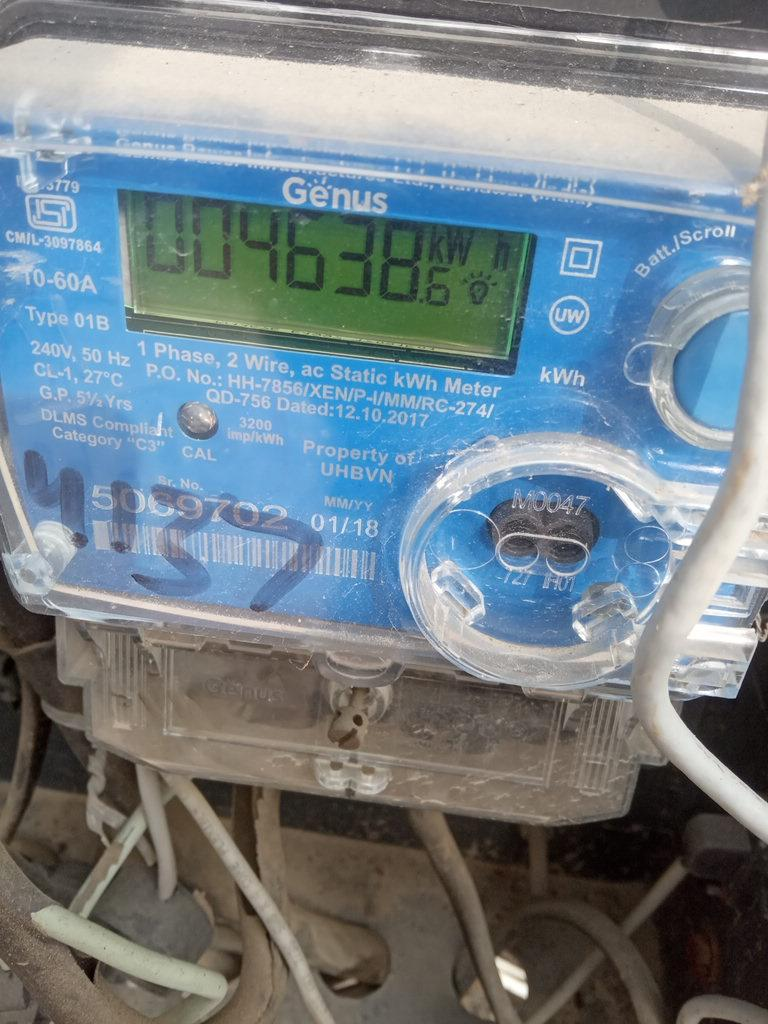.: (427, 223, 510, 276)
0: (416, 295, 425, 306)
1: (140, 187, 189, 281), (191, 197, 236, 285)
4: (330, 214, 377, 296)
5: (236, 205, 285, 294)
7: (280, 207, 324, 297), (426, 263, 453, 314)
9: (377, 221, 426, 307)
